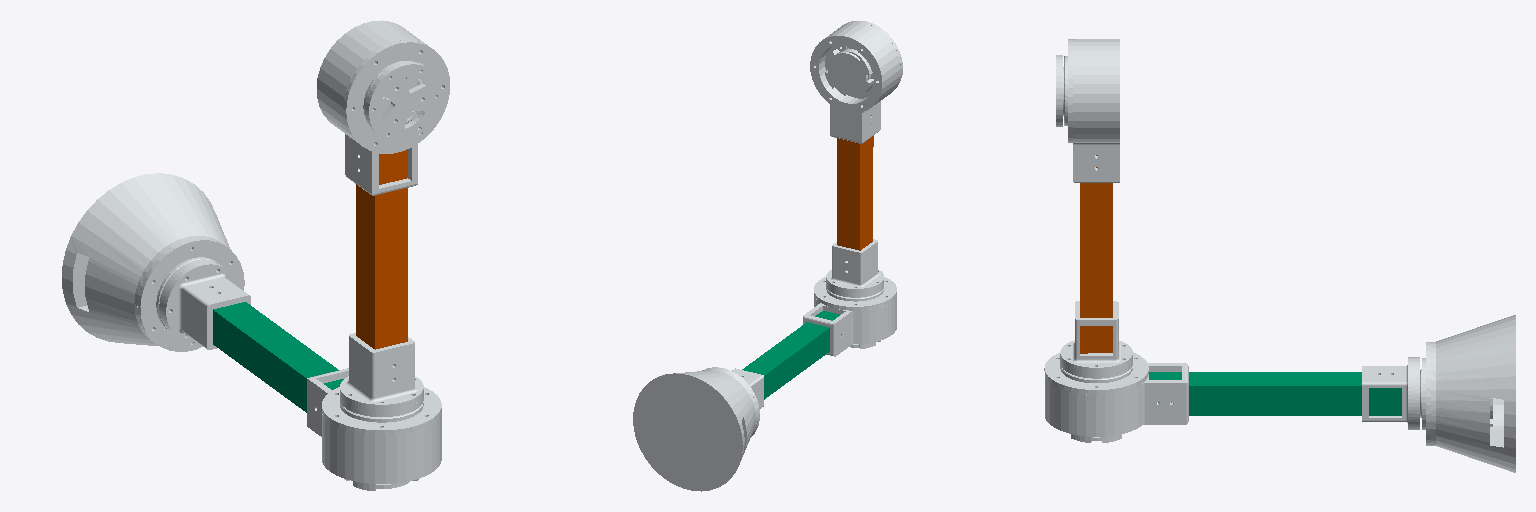
URDF robot description (combined_robot):
<robot name="combined_robot" xmlns:xacro="http://www.ros.org/wiki/xacro">
    <!-- base_motor_link -->
    <link
        name="base_motor_link">
        <inertial>
          <origin
            xyz="1.6355E-05 2.1044E-06 0.030945"
            rpy="0 0 0" />
          <mass
            value="1.1937" />
          <inertia
            ixx="0.0011798"
            ixy="-3.4788E-08"
            ixz="2.8837E-07"
            iyy="0.0010863"
            iyz="5.0519E-08"
            izz="0.0016066" />
        </inertial>
        <visual>
          <origin
            xyz="0 0 0"
            rpy="0 0 0" />
          <geometry>
            <mesh
              filename="./assets/Assem_4310_BASE/Assem_4310_BASE/meshes/base_motor_link.STL" />
          </geometry>
          <material
            name="">
            <color
              rgba="0.89804 0.91765 0.92941 1" />
          </material>
        </visual>
        <collision>
          <origin
            xyz="0 0 0"
            rpy="0 0 0" />
          <geometry>
            <mesh
              filename="./assets/Assem_4310_BASE/Assem_4310_BASE/meshes/base_motor_link.STL" />
          </geometry>
        </collision>
    </link>

    <!-- base_out_link -->
    <link
        name="base_out_link">
        <inertial>
          <origin
            xyz="2.3272E-17 0.0011054 0.008691"
            rpy="0 0 0" />
          <mass
            value="0.088545" />
          <inertia
            ixx="2.4599E-05"
            ixy="-1.5532E-21"
            ixz="3.7828E-22"
            iyy="2.5766E-05"
            iyz="-7.8406E-07"
            izz="3.0632E-05" />
        </inertial>
        <visual>
          <origin
            xyz="0 0 0"
            rpy="0 0 0" />
          <geometry>
            <mesh
              filename="./assets/Assem_4310_BASE/Assem_4310_BASE/meshes/base_out_link.STL" />
          </geometry>
          <material
            name="">
            <color
              rgba="0.89804 0.91765 0.92941 1" />
          </material>
        </visual>
        <collision>
          <origin
            xyz="0 0 0"
            rpy="0 0 0" />
          <geometry>
            <mesh
              filename="./assets/Assem_4310_BASE/Assem_4310_BASE/meshes/base_out_link.STL" />
          </geometry>
        </collision>
    </link>

    <!-- rod_link_1 -->
    <link name="rod_link_1">
        <visual>
            <geometry>
                <box size="0.025 0.025 0.2"/>
            </geometry>
            <material name="grey"/>
        </visual>
    </link>

  <!-- motor4310_in_link -->
  <link
    name="motor4310_in_link">
    <inertial>
      <origin
        xyz="0.0012212 -4.3571E-06 0.035478"
        rpy="0 0 0" />
      <mass
        value="0.57649" />
      <inertia
        ixx="0.00051876"
        ixy="-5.0519E-08"
        ixz="-5.0469E-06"
        iyy="0.00039258"
        iyz="3.4788E-08"
        izz="0.00029808" />
    </inertial>
    <visual>
      <origin
        xyz="0 0 0"
        rpy="0 0 0" />
      <geometry>
        <mesh
          filename="./assets/Assem_4310_JOINT/Assem_4310_JOINT/meshes/motor4310_in_link.STL" />
      </geometry>
      <material
        name="">
        <color
          rgba="0.89804 0.91765 0.92941 1" />
      </material>
    </visual>
    <collision>
      <origin
        xyz="0 0 0"
        rpy="0 0 0" />
      <geometry>
        <mesh
          filename="./assets/Assem_4310_JOINT/Assem_4310_JOINT/meshes/motor4310_in_link.STL" />
      </geometry>
    </collision>
  </link>

  <!-- motor4310_out_link -->
  <link
    name="motor4310_out_link">
    <inertial>
      <origin
        xyz="-2.5332E-10 -0.013691 0.0011054"
        rpy="0 0 0" />
      <mass
        value="0.088545" />
      <inertia
        ixx="2.4599E-05"
        ixy="-3.8934E-22"
        ixz="-1.8263E-21"
        iyy="3.0632E-05"
        iyz="7.8406E-07"
        izz="2.5766E-05" />
    </inertial>
    <visual>
      <origin
        xyz="0 0 0"
        rpy="0 0 0" />
      <geometry>
        <mesh
          filename="./assets/Assem_4310_JOINT/Assem_4310_JOINT/meshes/motor4310_out_link.STL" />
      </geometry>
      <material
        name="">
        <color
          rgba="0.89804 0.91765 0.92941 1" />
      </material>
    </visual>
    <collision>
      <origin
        xyz="0 0 0"
        rpy="0 0 0" />
      <geometry>
        <mesh
          filename="./assets/Assem_4310_JOINT/Assem_4310_JOINT/meshes/motor4310_out_link.STL" />
      </geometry>
    </collision>
  </link>

  <!-- rod_link_2 -->
  <link name="rod_link_2">
        <visual>
            <geometry>
                <box size="0.025 0.025 0.2"/>
            </geometry>
            <material name="grey"/>
        </visual>
  </link>

  <!-- motor4305_link -->
  <link
    name="motor4305_link">
    <inertial>
      <origin
        xyz="0.0042941 1.4489E-06 0.034665"
        rpy="0 0 0" />
      <mass
        value="0.48076" />
      <inertia
        ixx="0.0004787"
        ixy="5.7034E-09"
        ixz="-5.2375E-06"
        iyy="0.000333"
        iyz="1.5111E-08"
        izz="0.00023888" />
    </inertial>
    <visual>
      <origin
        xyz="0 0 0"
        rpy="0 0 0" />
      <geometry>
        <mesh
          filename="./assets/Assem_4305_JOINT/Assem_4305_JOINT/meshes/motor4305_link.STL" />
      </geometry>
      <material
        name="">
        <color
          rgba="0.89804 0.91765 0.92941 1" />
      </material>
    </visual>
    <collision>
      <origin
        xyz="0 0 0"
        rpy="0 0 0" />
      <geometry>
        <mesh
          filename="./assets/Assem_4305_JOINT/Assem_4305_JOINT/meshes/motor4305_link.STL" />
      </geometry>
    </collision>
  </link>

  <!-- motor4305_out_link -->
  <link
    name="motor4305_out_link">
    <inertial>
      <origin
        xyz="-1.3533E-08 -0.0025 -3.5182E-09"
        rpy="0 0 0" />
      <mass
        value="0.026746" />
      <inertia
        ixx="5.4686E-06"
        ixy="4.832E-22"
        ixz="-3.7058E-22"
        iyy="1.0826E-05"
        iyz="-3.2034E-22"
        izz="5.4686E-06" />
    </inertial>
    <visual>
      <origin
        xyz="0 0 0"
        rpy="0 0 0" />
      <geometry>
        <mesh
          filename="./assets/Assem_4305_JOINT/Assem_4305_JOINT/meshes/motor4305_out_link.STL" />
      </geometry>
      <material
        name="">
        <color
          rgba="0.89804 0.91765 0.92941 1" />
      </material>
    </visual>
    <collision>
      <origin
        xyz="0 0 0"
        rpy="0 0 0" />
      <geometry>
        <mesh
          filename="./assets/Assem_4305_JOINT/Assem_4305_JOINT/meshes/motor4305_out_link.STL" />
      </geometry>
    </collision>
  </link>







 <!-- base_rev_joint -->
 <joint
        name="base_rev_joint"
        type="revolute">
        <origin
          xyz="0 -0.077 0"
          rpy="1.5708 -1.5708 0" />
        <parent
          link="base_motor_link" />
        <child
          link="base_out_link" />
        <axis
          xyz="1 0 0" />
        <limit
          lower="0"
          upper="0"
          effort="0"
          velocity="0" />
    </joint>

    <!-- base to rod to 4310 Joint -->
    <joint name="base_to_joint1" type="fixed">
        <parent link="base_out_link"/>
        <child link="rod_link_1"/>
        <origin xyz="0 0 0.1" rpy="0 0 0"/> <!-- Adjust based on actual position -->
    </joint>

    <joint name="rod_1_to_4310" type="fixed">
        <parent link="rod_link_1"/>
        <child link="motor4310_in_link"/>
        <origin xyz="0 0 0.1" rpy="-1.5708 0 0"/> <!-- Adjust based on actual position -->

        <axis
            xyz="0 0 1" />
    </joint>


    <!-- motor4310_rev_joint -->
    <joint
    name="motor4310_rev_joint"
    type="revolute">
    <origin
      xyz="0.0255 -0.0395 0"
      rpy="0 0 1.57" />
    <parent
      link="motor4310_in_link" />
    <child
      link="motor4310_out_link" />
    <axis
      xyz="1 0 0" />
    <limit
      lower="0"
      upper="0"
      effort="0"
      velocity="0" />
    </joint>

    <!-- 4310 Joint to rod 2 -->
    <joint name="base_to_joint2" type="fixed">
        <parent link="motor4310_out_link"/>
        <child link="rod_link_2"/>
        <origin xyz="0 -0.0875 0" rpy="-1.571 0 0"/> <!-- Adjust based on actual position -->
    </joint>
    <joint name="rod_2_to_4305" type="fixed">
        <parent link="rod_link_2"/>
        <child link="motor4305_link"/>
        <origin xyz="0 0 -0.1" rpy="1.5708 0 3.14"/> <!-- Adjust based on actual position -->

    </joint>



  <!-- 4305 -->
  <joint
    name="motor4305_rev_joint"
    type="revolute">
    <origin
      xyz="0.0255 -0.0395 0"
      rpy="0 0.032992 1.5708" />
    <parent
      link="motor4305_link" />
    <child
      link="motor4305_out_link" />
    <axis
      xyz="0 0 1" />
    <limit
      lower="0"
      upper="0"
      effort="0"
      velocity="0" />
  </joint>

</robot>

--- What the picture shows (computed from the rendered views, not written in the file) ---
The picture shows the robot from 3 angles, left to right: view 1: azimuth 30°, elevation 25°; view 2: azimuth 150°, elevation 25°; view 3: azimuth 270°, elevation 25°; orthographic projection.
Model combined_robot with 8 links and 7 joints (3 revolute, 4 fixed), rooted at base_motor_link, posed all joints at 0.
Visible links, largest first — view 1: base_motor_link, motor4305_link, motor4310_in_link, rod_link_2, rod_link_1, motor4310_out_link, base_out_link, motor4305_out_link; view 2: base_motor_link, motor4305_link, motor4310_in_link, rod_link_2, rod_link_1, motor4310_out_link; view 3: base_motor_link, motor4310_in_link, rod_link_1, motor4305_link, rod_link_2, motor4310_out_link, base_out_link.
Boxes of the visible links, left/top/right/bottom form: base_motor_link: left=62, top=173, right=244, bottom=351; motor4305_link: left=317, top=20, right=449, bottom=195; motor4310_in_link: left=307, top=368, right=441, bottom=490; rod_link_2: left=356, top=149, right=407, bottom=349; rod_link_1: left=213, top=302, right=343, bottom=412; motor4310_out_link: left=340, top=333, right=423, bottom=416; base_out_link: left=159, top=259, right=250, bottom=349; motor4305_out_link: left=365, top=61, right=440, bottom=141; base_motor_link: left=633, top=367, right=759, bottom=491; motor4305_link: left=810, top=21, right=902, bottom=143; motor4310_in_link: left=803, top=277, right=896, bottom=356; rod_link_2: left=837, top=136, right=873, bottom=250; rod_link_1: left=742, top=311, right=839, bottom=399; motor4310_out_link: left=826, top=239, right=883, bottom=297; base_motor_link: left=1420, top=315, right=1515, bottom=472; motor4310_in_link: left=1044, top=352, right=1188, bottom=442; rod_link_1: left=1149, top=372, right=1401, bottom=415; motor4305_link: left=1063, top=39, right=1119, bottom=182; rod_link_2: left=1080, top=155, right=1112, bottom=353; motor4310_out_link: left=1060, top=301, right=1132, bottom=378; base_out_link: left=1362, top=357, right=1419, bottom=429.
Size in the robot's own frame: 0.12 by 0.356 by 0.3518 metres.
6 mesh visuals loaded from 6 distinct referenced files (6 binary STL).